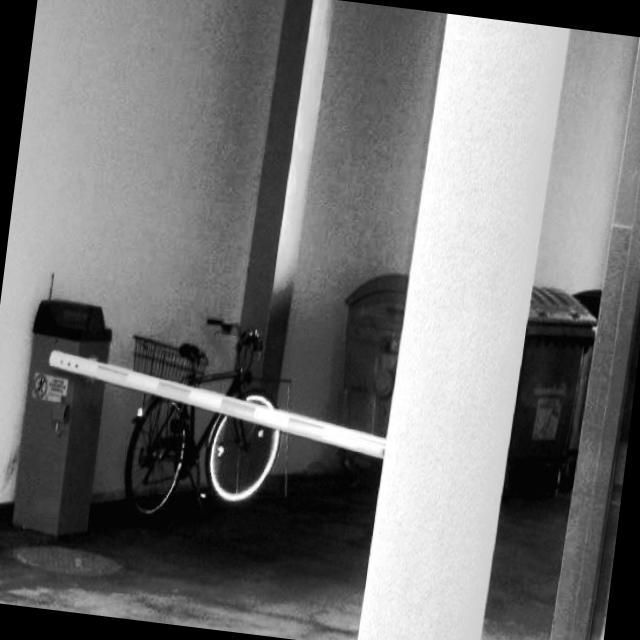Bicycle: (110, 300, 298, 530)
